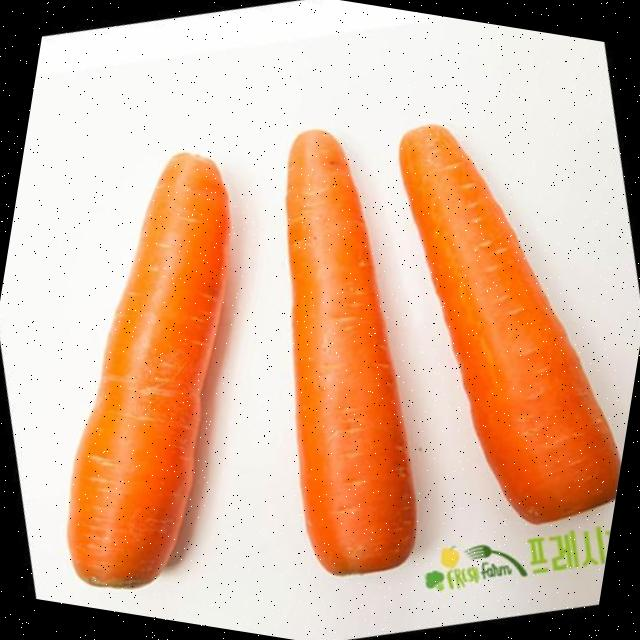carrot: (398, 125, 618, 521), (67, 153, 229, 587), (285, 130, 415, 575)
